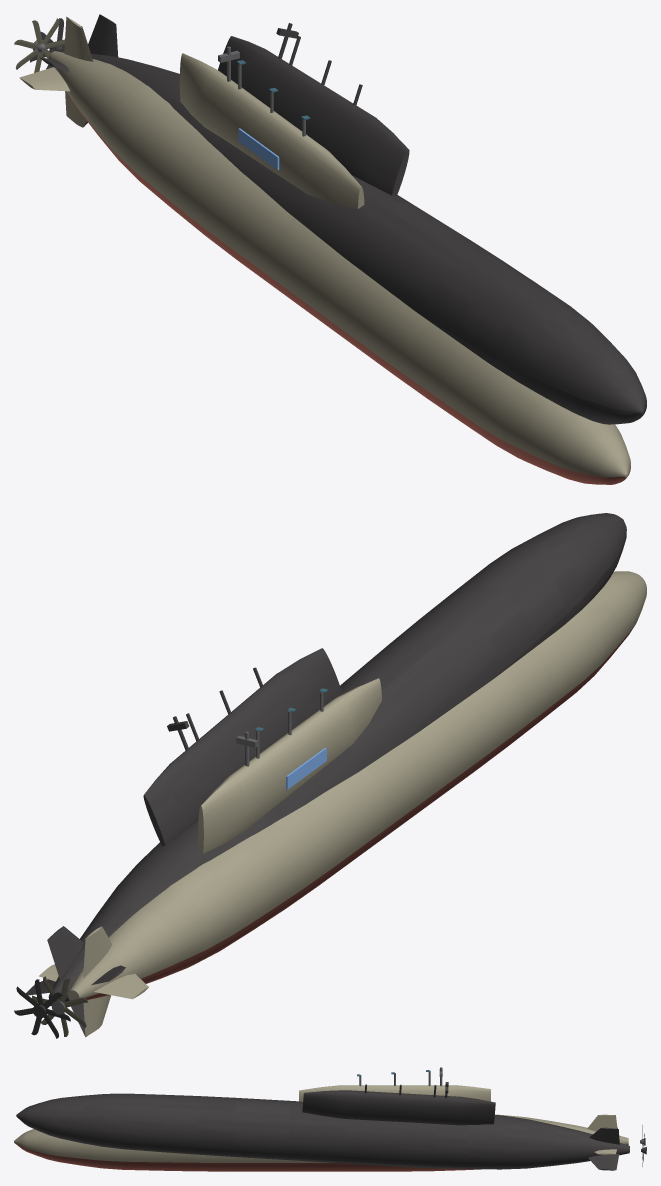
File: submarine__dakar_class.glb
The picture shows the model from 3 angles, top to bottom: view 1: azimuth 30°, elevation 25°; view 2: azimuth 150°, elevation 25°; view 3: azimuth 270°, elevation 25°; orthographic projection. The views are drawn at different scales.
Visible parts, largest first — view 1: Hull_Mesh, Wreck; view 2: Hull_Mesh, Wreck; view 3: Wreck, Hull_Mesh.
Part boxes in pixels (x1=…): Hull_Mesh: x1=14, y1=16, x2=630, y2=484; Wreck: x1=30, y1=14, x2=646, y2=424; Hull_Mesh: x1=32, y1=571, x2=646, y2=1036; Wreck: x1=14, y1=513, x2=626, y2=1038; Wreck: x1=16, y1=1082, x2=646, y2=1170; Hull_Mesh: x1=14, y1=1070, x2=645, y2=1171.
Size of what is drawn, in the model's own units: 9.49 by 14.23 by 79.08.
